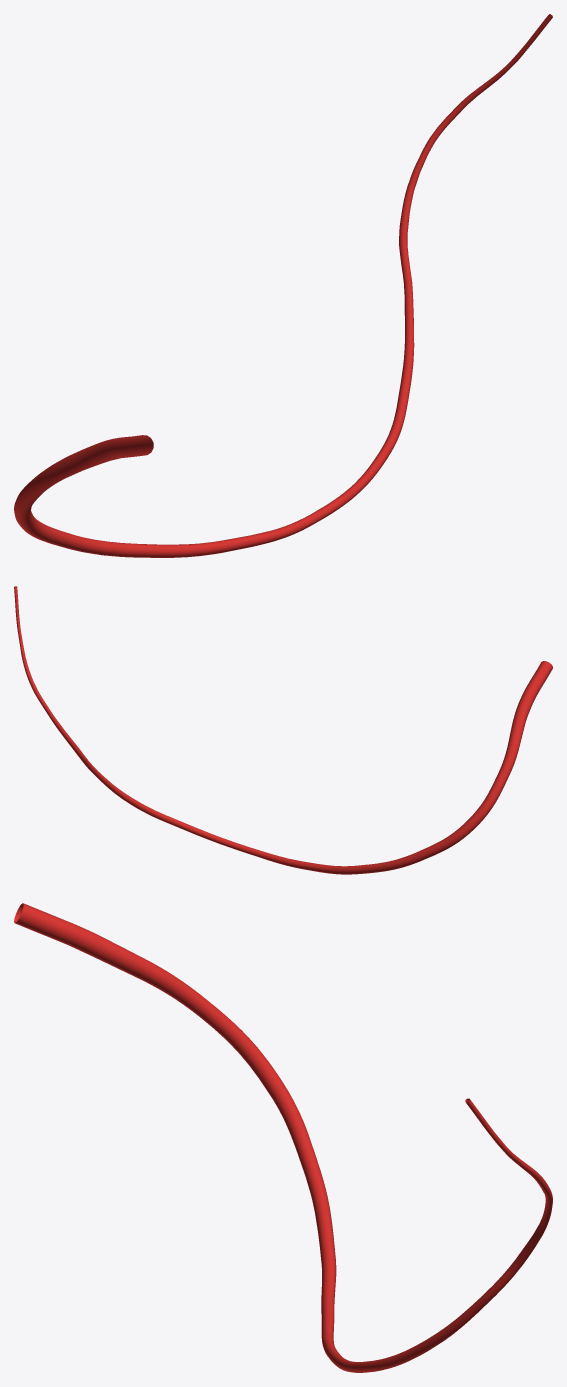
File: circulatorio-lateral-occipital-artery-l.glb
The picture shows the model from 3 angles, top to bottom: view 1: azimuth 30°, elevation 25°; view 2: azimuth 150°, elevation 25°; view 3: azimuth 270°, elevation 25°; orthographic projection. The views are drawn at different scales.
Visible parts, largest first — view 1: Lateral occipital artery.l; view 2: Lateral occipital artery.l; view 3: Lateral occipital artery.l.
Part boxes in pixels (x1,y1,x2,y2): Lateral occipital artery.l: (14, 14, 552, 557); Lateral occipital artery.l: (14, 586, 552, 874); Lateral occipital artery.l: (14, 903, 552, 1372).
Bounding box in the file's own units: 0.0434 × 0.0253 × 0.0293.
